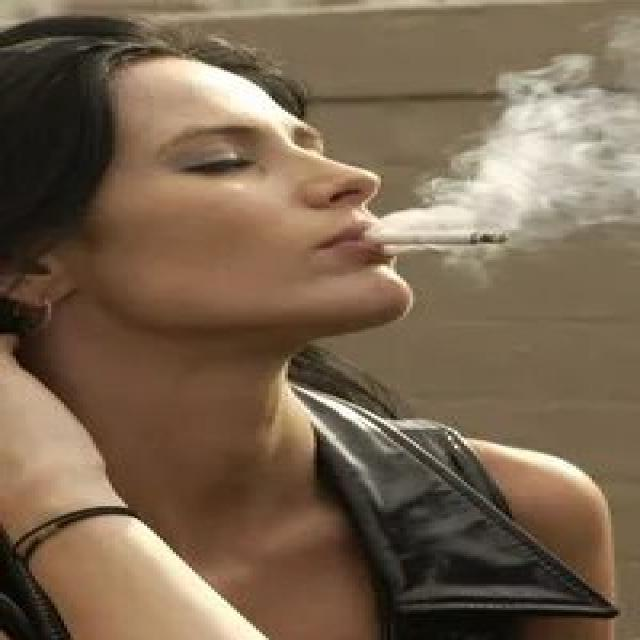cigarette: (349, 226, 518, 250)
